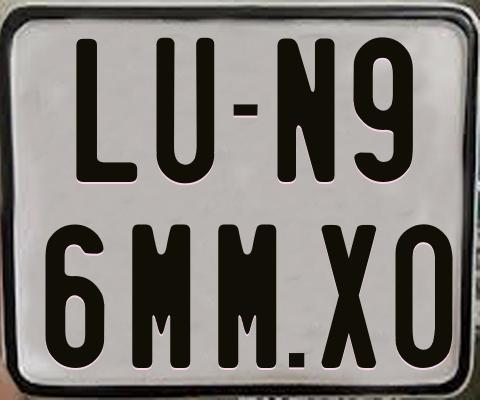0: (395, 223, 453, 369)
6: (42, 221, 103, 367)
9: (350, 34, 414, 179)
L: (74, 36, 139, 179)
M: (217, 223, 280, 370), (129, 224, 188, 374)
N: (277, 37, 336, 187)
U: (156, 36, 218, 181)
X: (318, 222, 375, 367)
